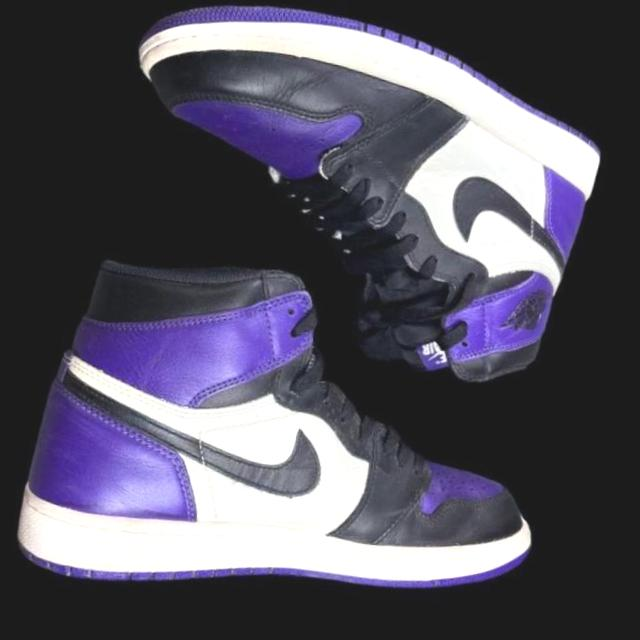nike_original_jordan: (0, 219, 588, 640), (74, 0, 623, 406)
